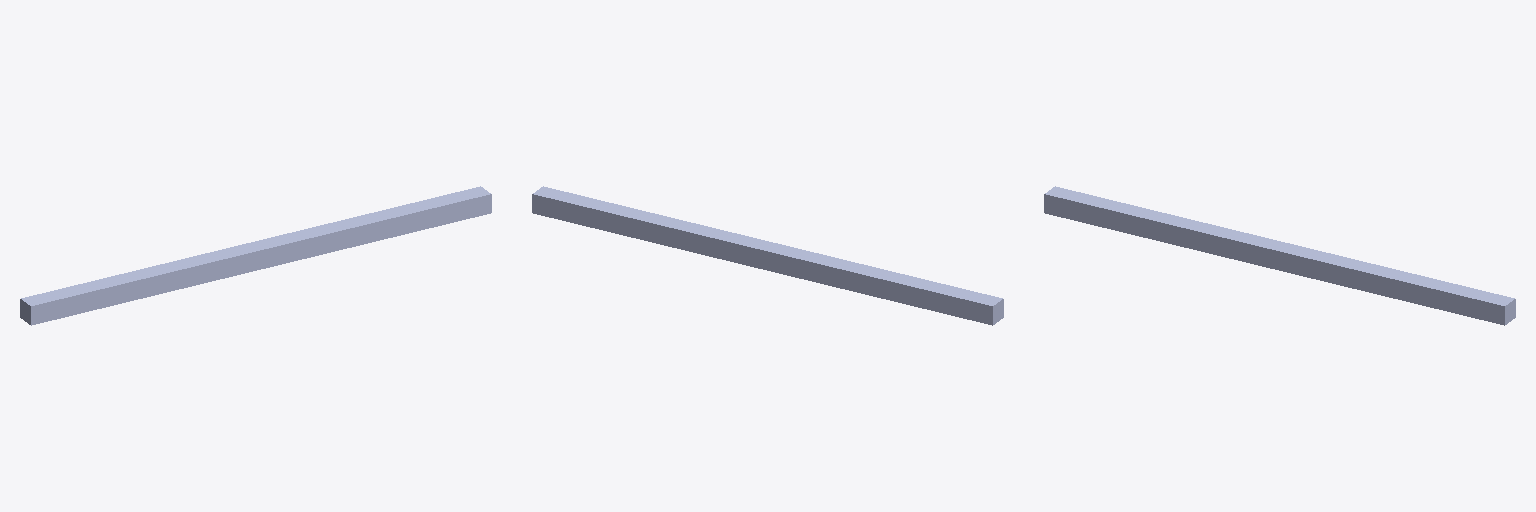
The robot description file, URDF, robot "road2":
<?xml version="1.0" encoding="utf-8"?>
<!-- This URDF was automatically created by SolidWorks to URDF Exporter! Originally created by [author] ([email redacted]) 
     Commit Version: 1.6.0-4-g7f85cfe  Build Version: 1.6.7995.38578
     For more information, please see http://wiki.ros.org/sw_urdf_exporter -->
<robot
  name="road2">
  <link
    name="base_link">
    <inertial>
      <origin
        xyz="-0.35 0.01 0.21"
        rpy="0 0 0" />
      <mass
        value="0.2" />
      <inertia
        ixx="1.33333333333333E-05"
        ixy="1.41172157875717E-20"
        ixz="1.21882394223579E-19"
        iyy="0.00417333333333333"
        iyz="-4.7885595951445E-23"
        izz="0.00417333333333333" />
    </inertial>
    <visual>
      <origin
        xyz="0 0 0"
        rpy="0 0 0" />
      <geometry>
        <mesh
          filename="package://road2/meshes/base_link.STL" />
      </geometry>
      <material
        name="">
        <color
          rgba="0.792156862745098 0.819607843137255 0.933333333333333 1" />
      </material>
    </visual>
    <collision>
      <origin
        xyz="0 0 0"
        rpy="0 0 0" />
      <geometry>
        <mesh
          filename="package://road2/meshes/base_link.STL" />
      </geometry>
    </collision>
  </link>
</robot>

--- Render facts (derived) ---
The picture shows the robot from 3 angles, left to right: view 1: azimuth 30°, elevation 25°; view 2: azimuth 150°, elevation 25°; view 3: azimuth 330°, elevation 25°; orthographic projection.
Model road2 with 1 links and 0 joints (none), rooted at base_link, posed all joints at 0.
Links seen in each view (by area): view 1: base_link; view 2: base_link; view 3: base_link.
Link boxes in pixels (<box>): base_link: <box>20,186,491,325</box>; base_link: <box>532,186,1003,325</box>; base_link: <box>1044,186,1515,325</box>.
Size in the robot's own frame: 0.5 by 0.02 by 0.02 metres.
Meshes: 1 distinct files referenced, 1 mesh visuals loaded (1 binary STL).